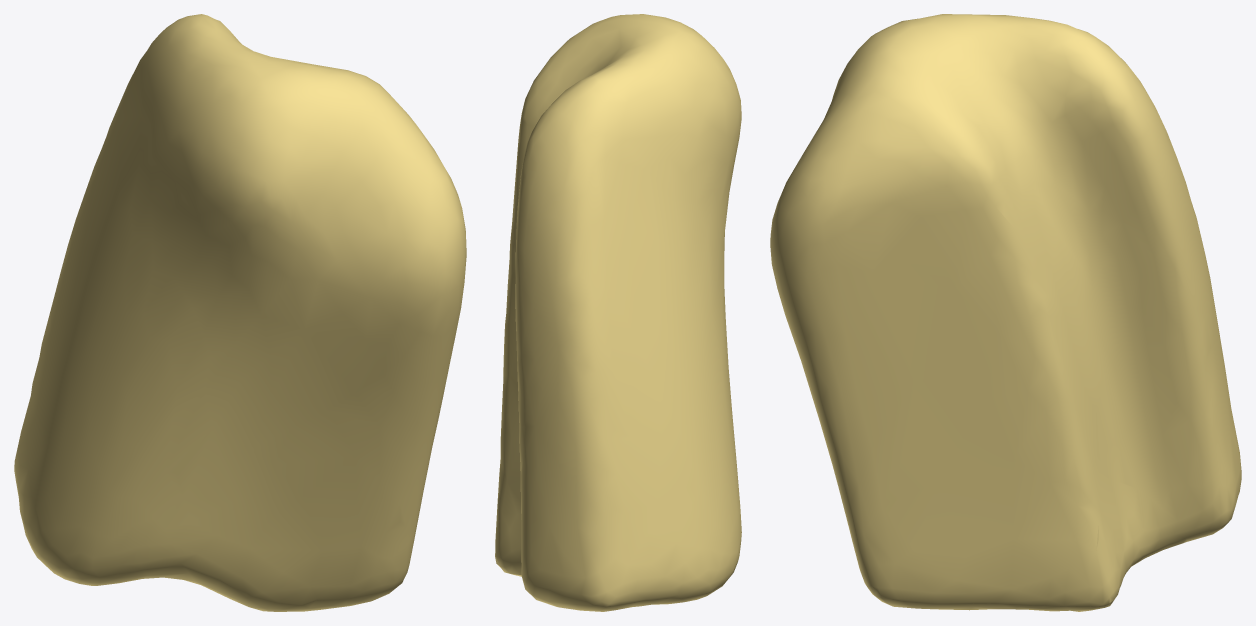
File: fma74507-l_mm3538.glb
3 renders of one model, left to right at view 1: azimuth 30°, elevation 25°; view 2: azimuth 150°, elevation 25°; view 3: azimuth 270°, elevation 25°, orthographic. The views are drawn at different scales.
Visible parts, largest first — view 1: FMA74507-L_MM3538; view 2: FMA74507-L_MM3538; view 3: FMA74507-L_MM3538.
Part boxes in pixels (x1=…): FMA74507-L_MM3538: x1=14, y1=14, x2=466, y2=611; FMA74507-L_MM3538: x1=495, y1=14, x2=741, y2=611; FMA74507-L_MM3538: x1=770, y1=14, x2=1241, y2=611.
Size of the model in its own units: 0.00256 by 0.00477 by 0.00368.
